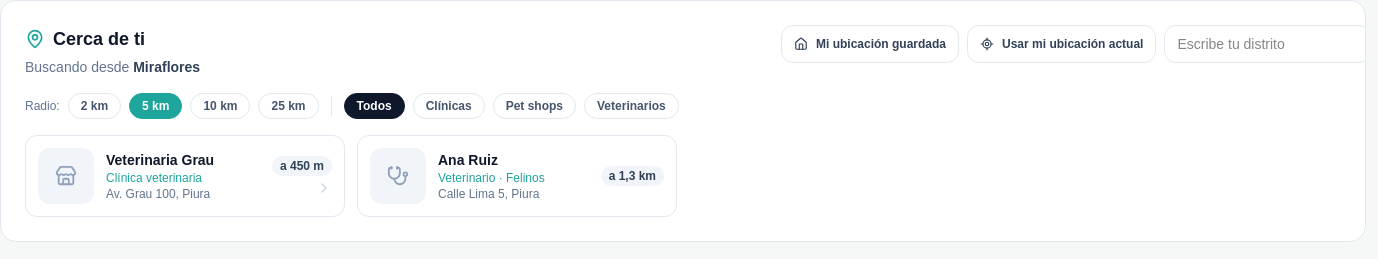
Test: CercaDeTi › el punto elegido en la sesión tiene prioridad sobre la ubicación guardada, que queda como opción
This screenshot has width=1378, height=259.
Expected: the text "Miraflores" is shown, [133,59,200,75]
Click the button "Mi ubicación guardada" at x=870, y=44, box [781,25,959,63]
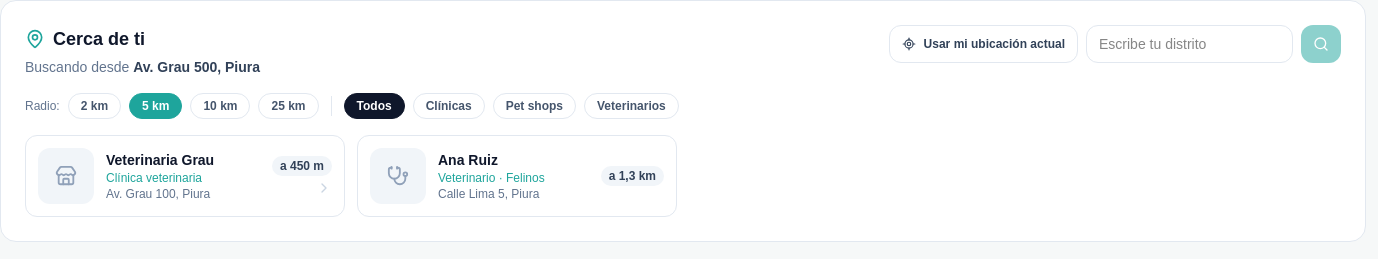
Expected: the text "Av. Grau 500, Piura" is shown, [133,59,260,75]
